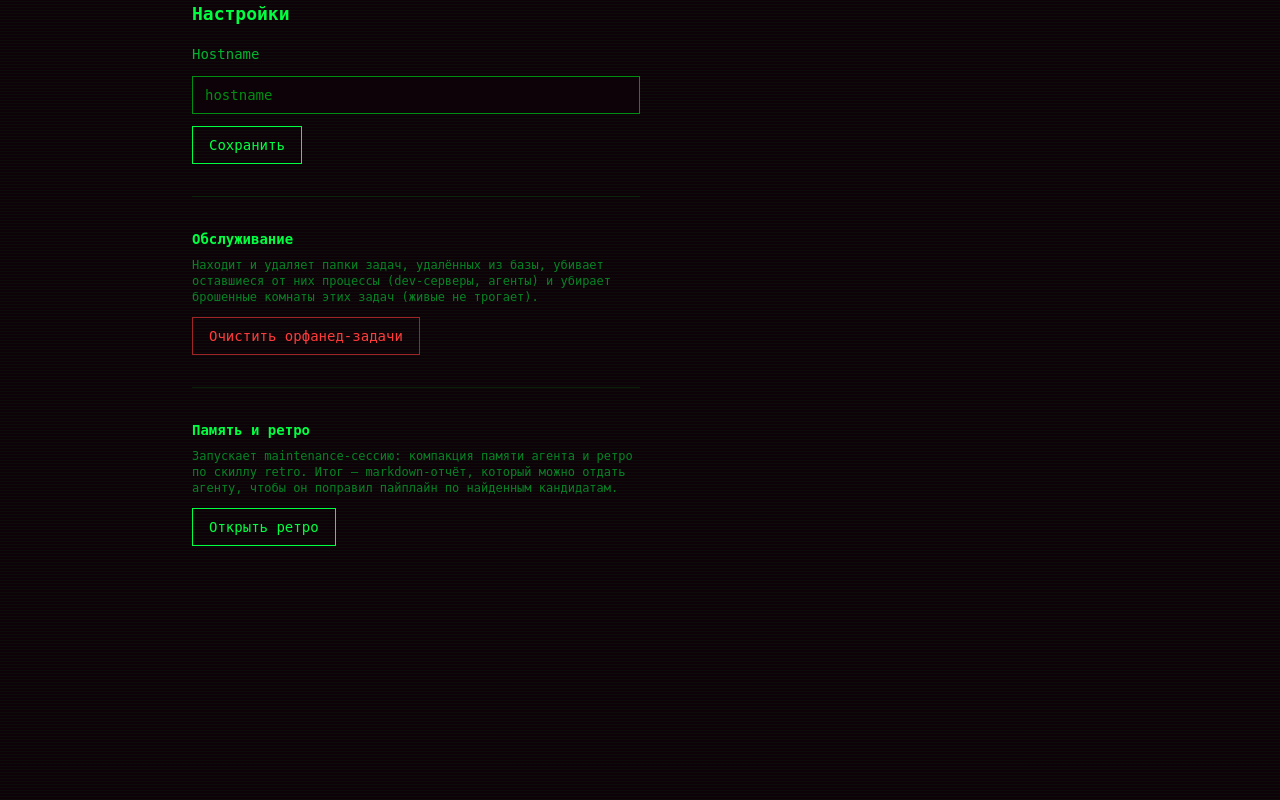
it: Settings — память и ретро › «Остановить» шлёт abort и показывает причину из прогона
Click the button with test id "settings-retro-open".
click(264, 527)  # box [192,508,336,546]
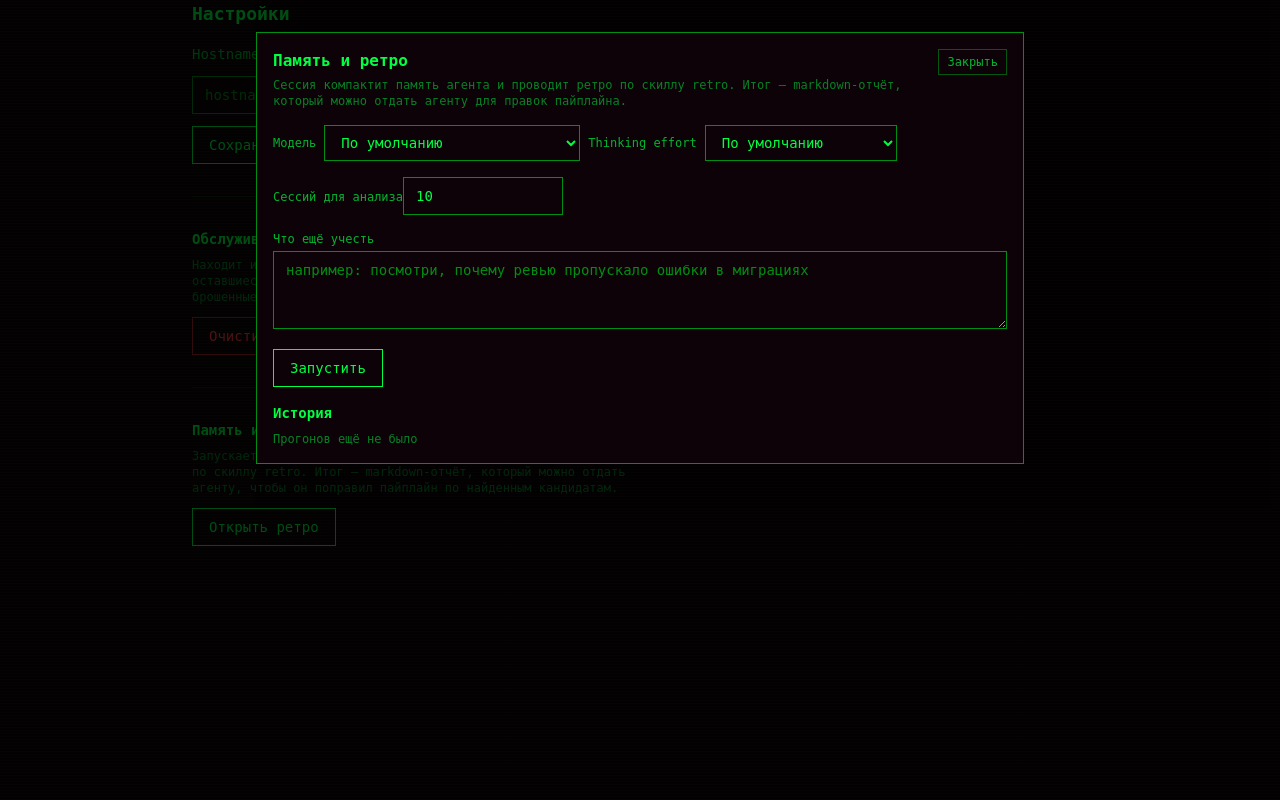
Click the button with test id "retro-start".
click(328, 368)  # box [273,349,383,387]
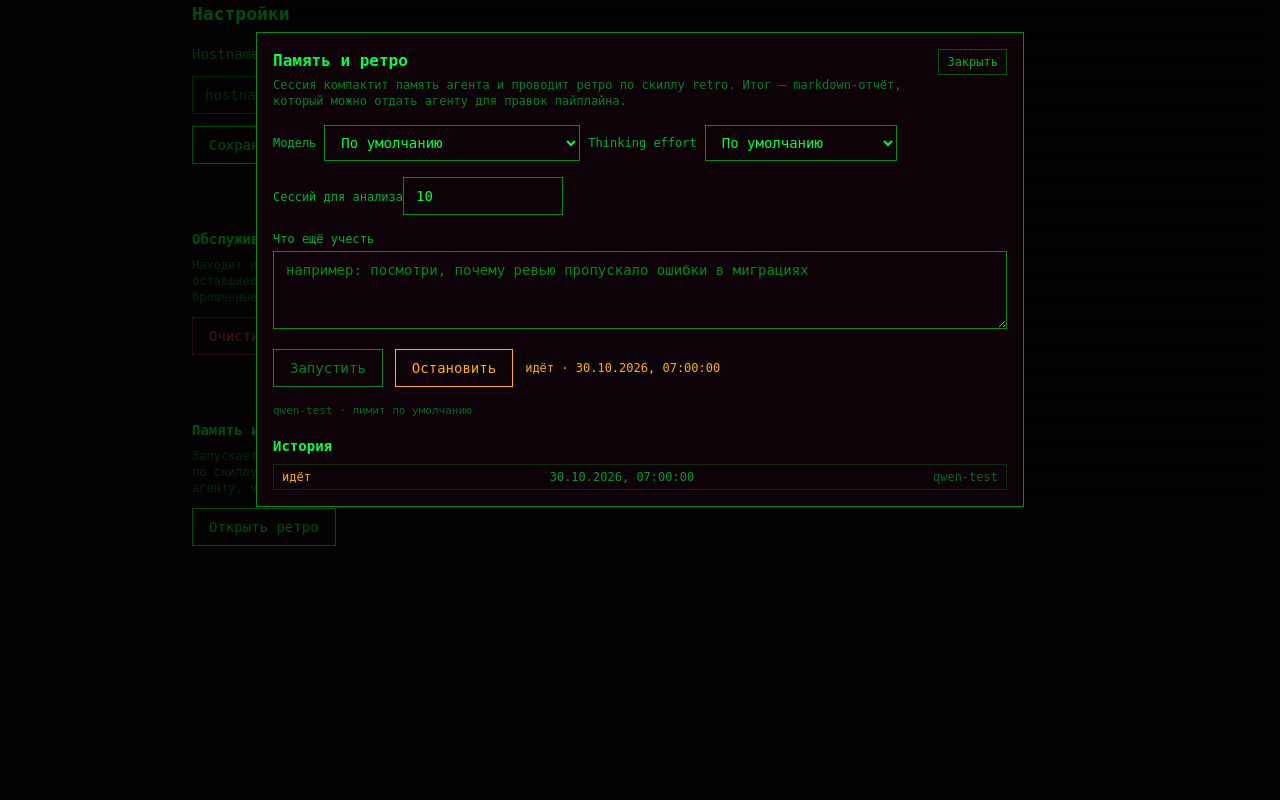
Click the button with test id "retro-abort".
click(454, 368)  # box [395,349,513,387]
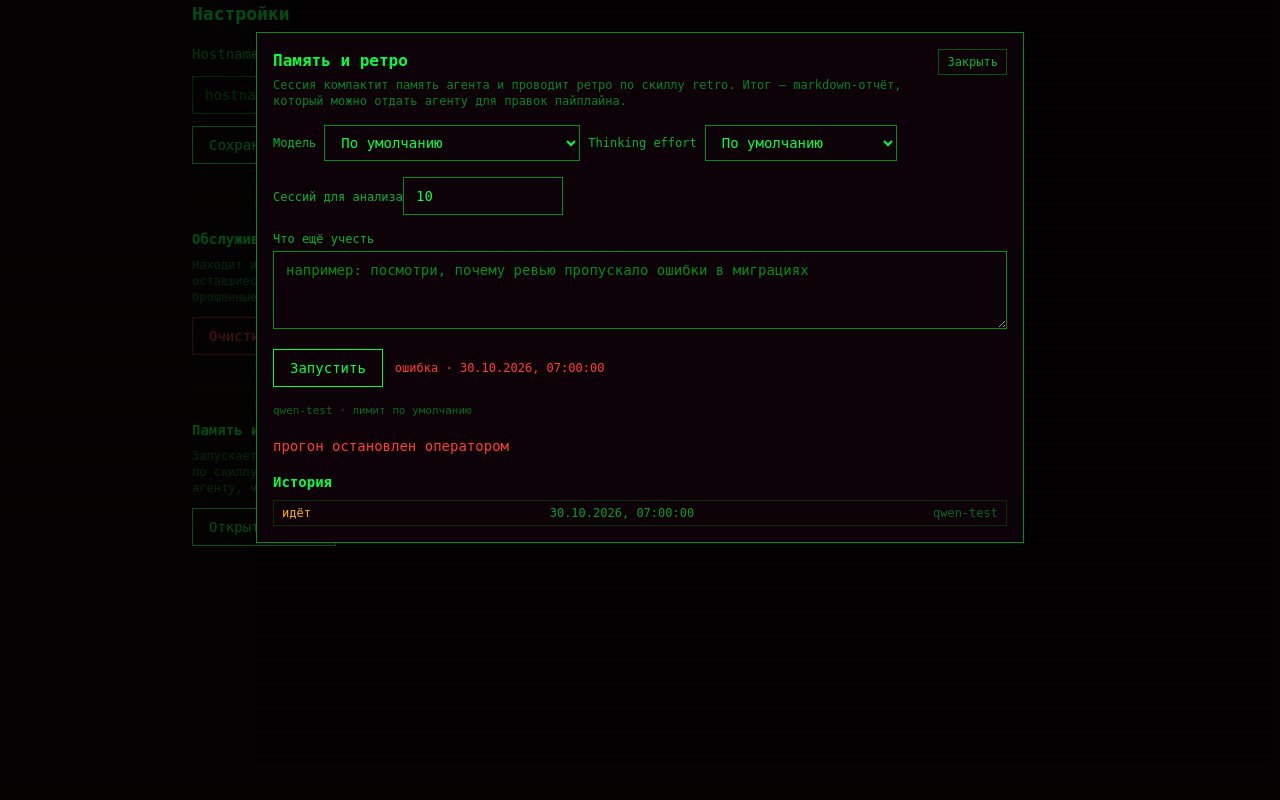
Expected: the text with test id "retro-run-error" shows "остановлен оператором", [273,438,509,454]
